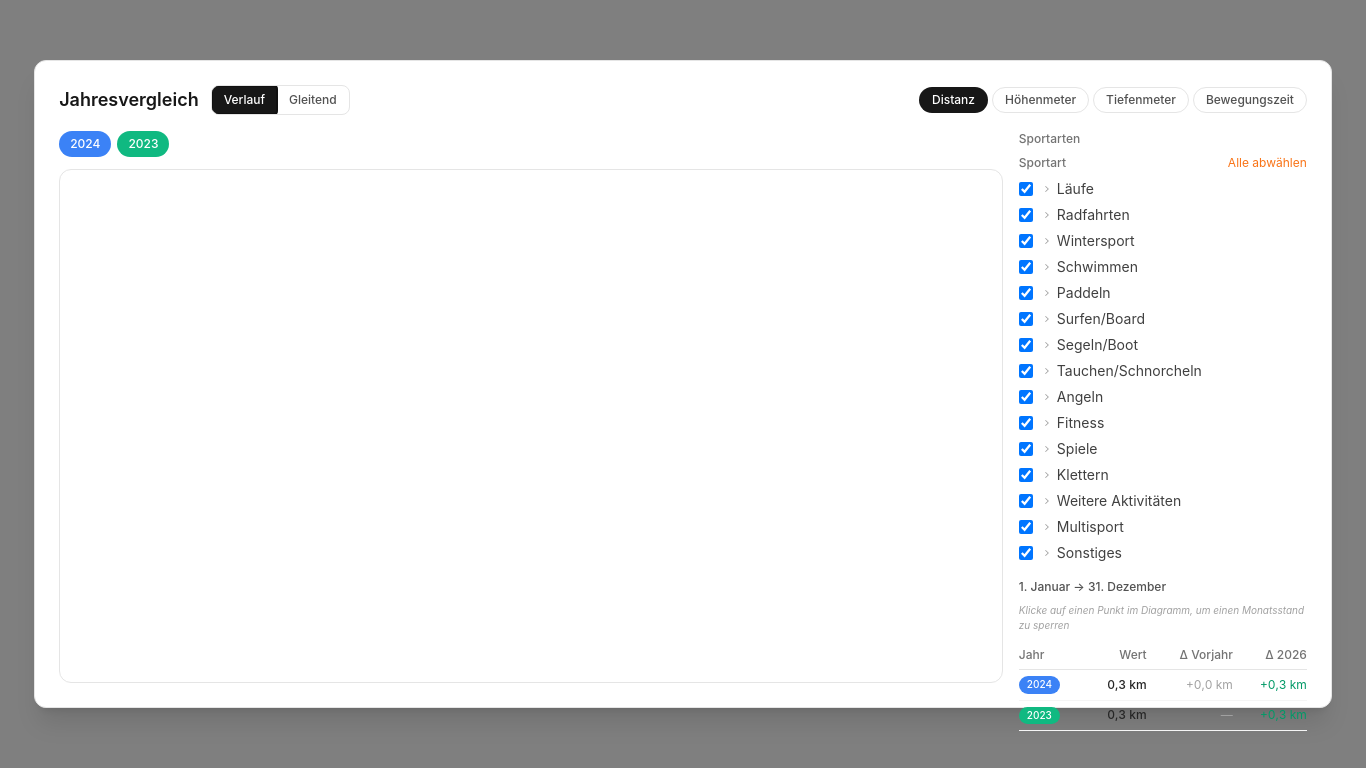
it: YearProgressionFullscreenModal › switching to Rolling mode shows period selector and hides it on Progress
The width and height of the screenshot is (1366, 768).
// Switch to rolling.
Step 1. Click the button "Gleitend" → (313, 100), box [277,86,349,114]
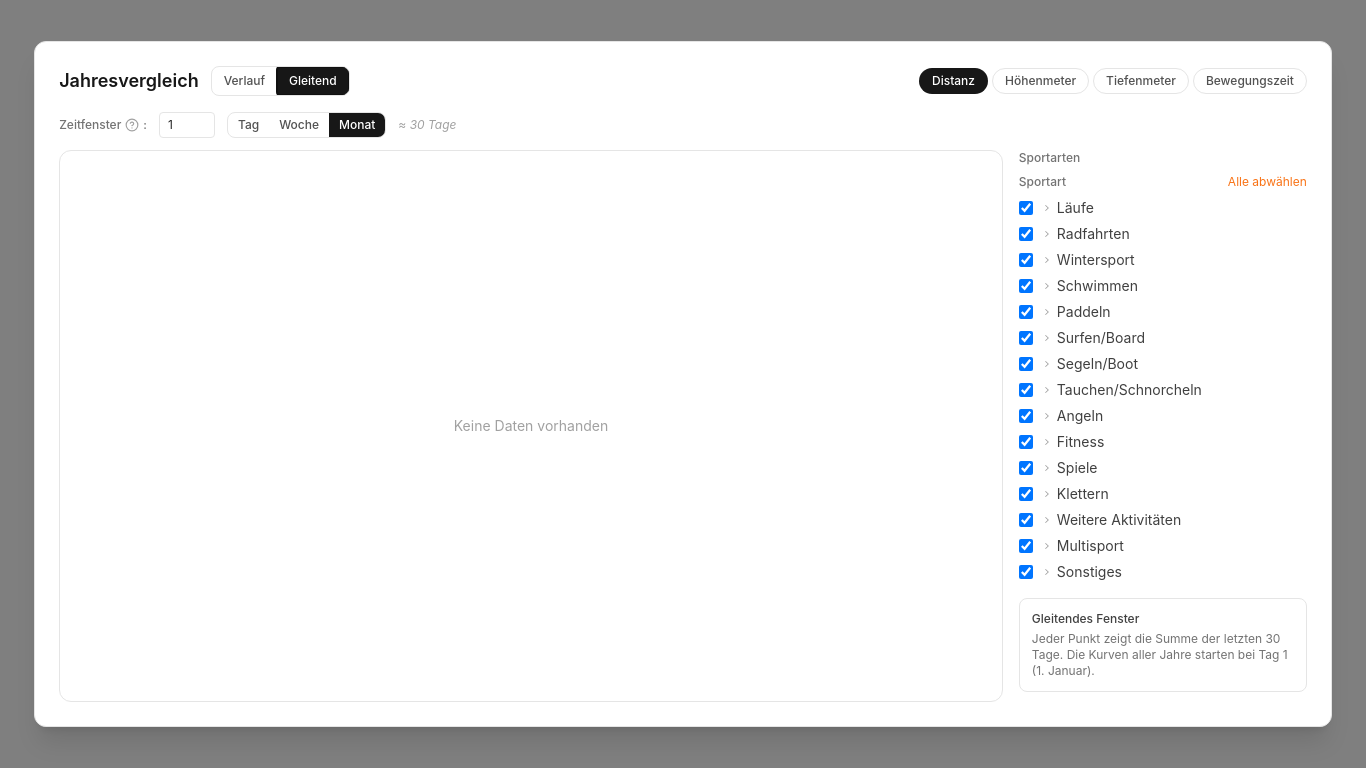
Expected: the element with test id "period-selector" is shown, [59,112,456,138]
// Switch back to progress — period selector disappears.
Step 2. Click the button "Verlauf" → (244, 81), box [212,67,277,95]
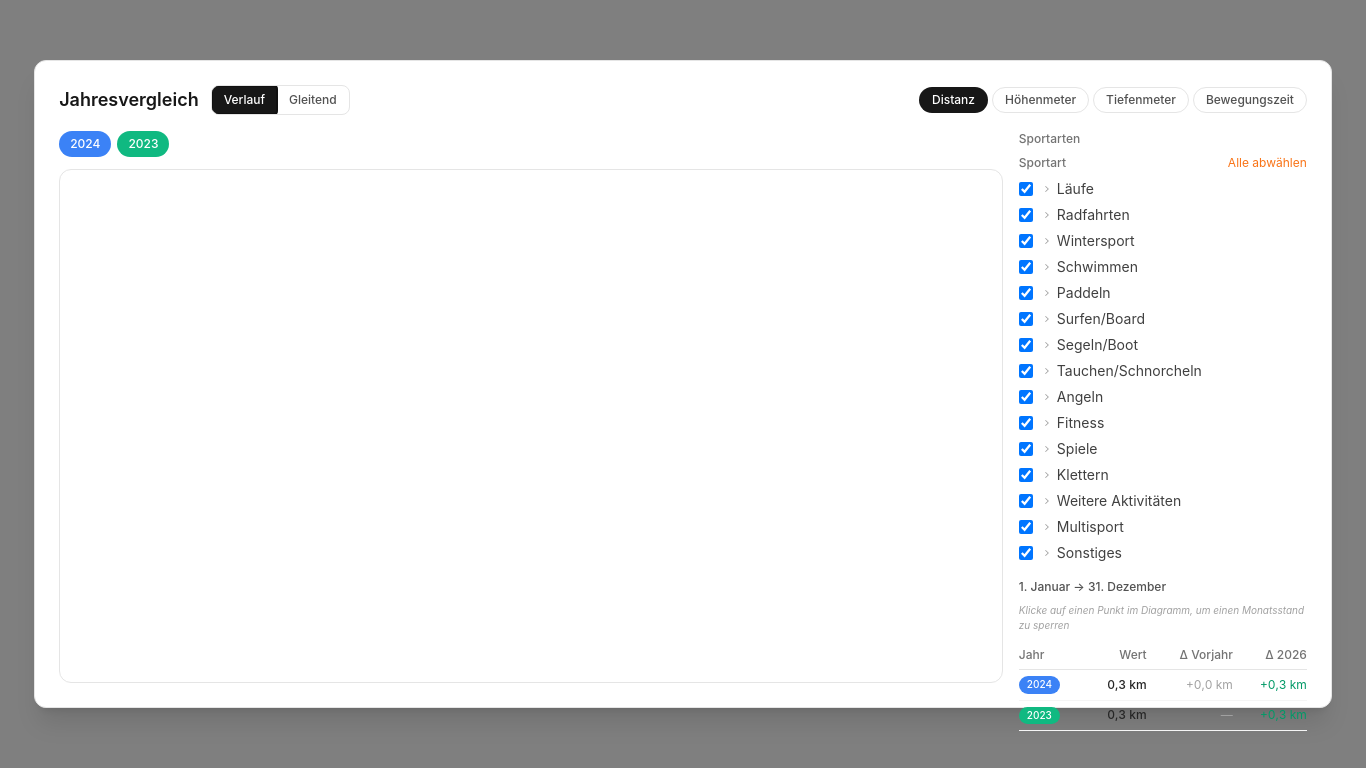
Expected: the element with test id "period-selector" is gone
